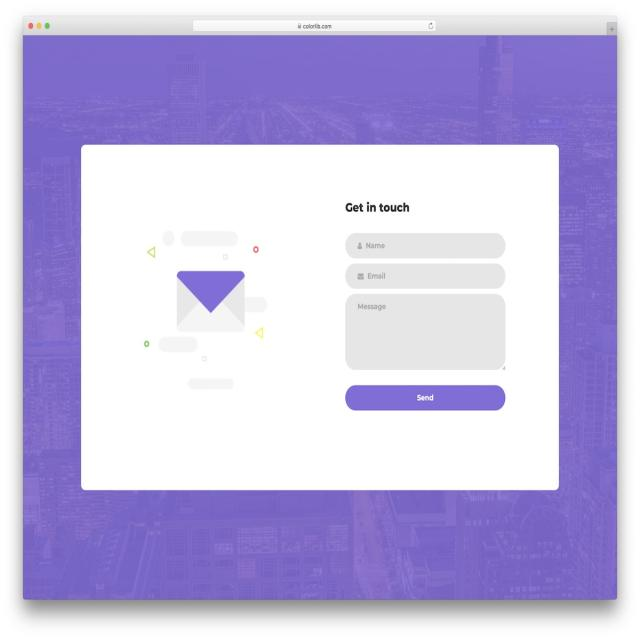Image: (148, 222, 273, 406)
buttons: (350, 386, 504, 410)
input-fields: (348, 298, 504, 368), (346, 264, 506, 290), (349, 234, 506, 258)
text: (345, 200, 412, 214)
